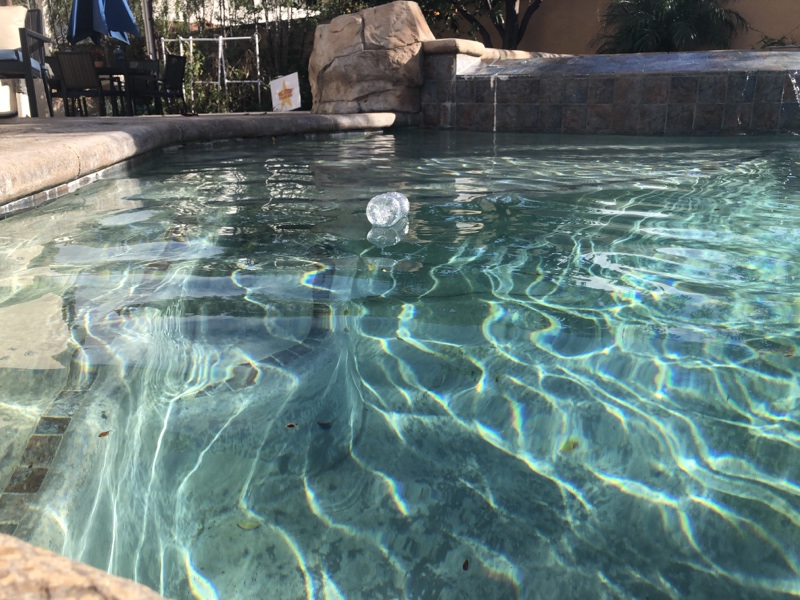Plastic Bottle: (363, 189, 413, 230)
